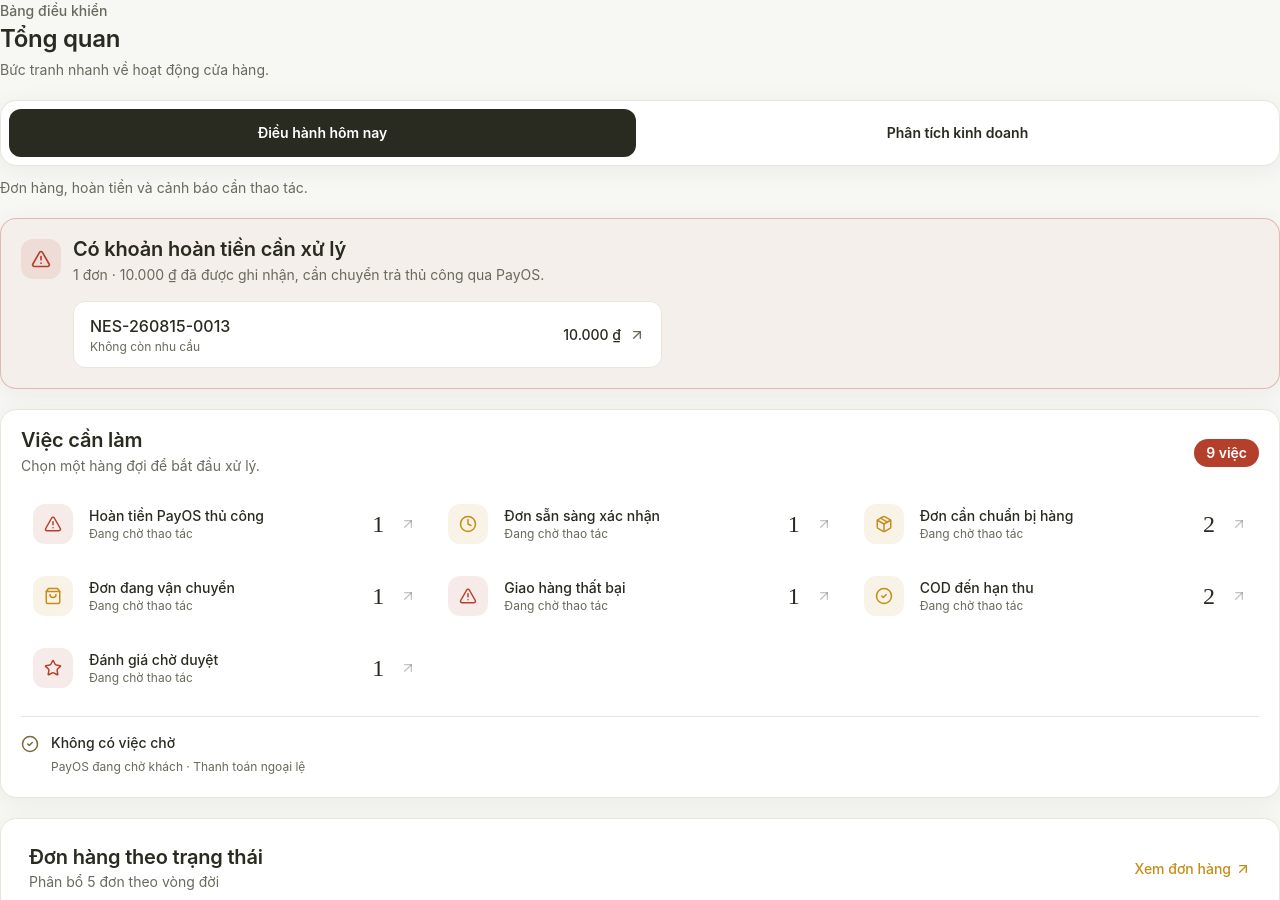
Scenario: AdminDashboardPage › shows the operational period results without a decorative hero
Click the button "Phân tích kinh doanh": (958, 133) [644,109,1271,157]
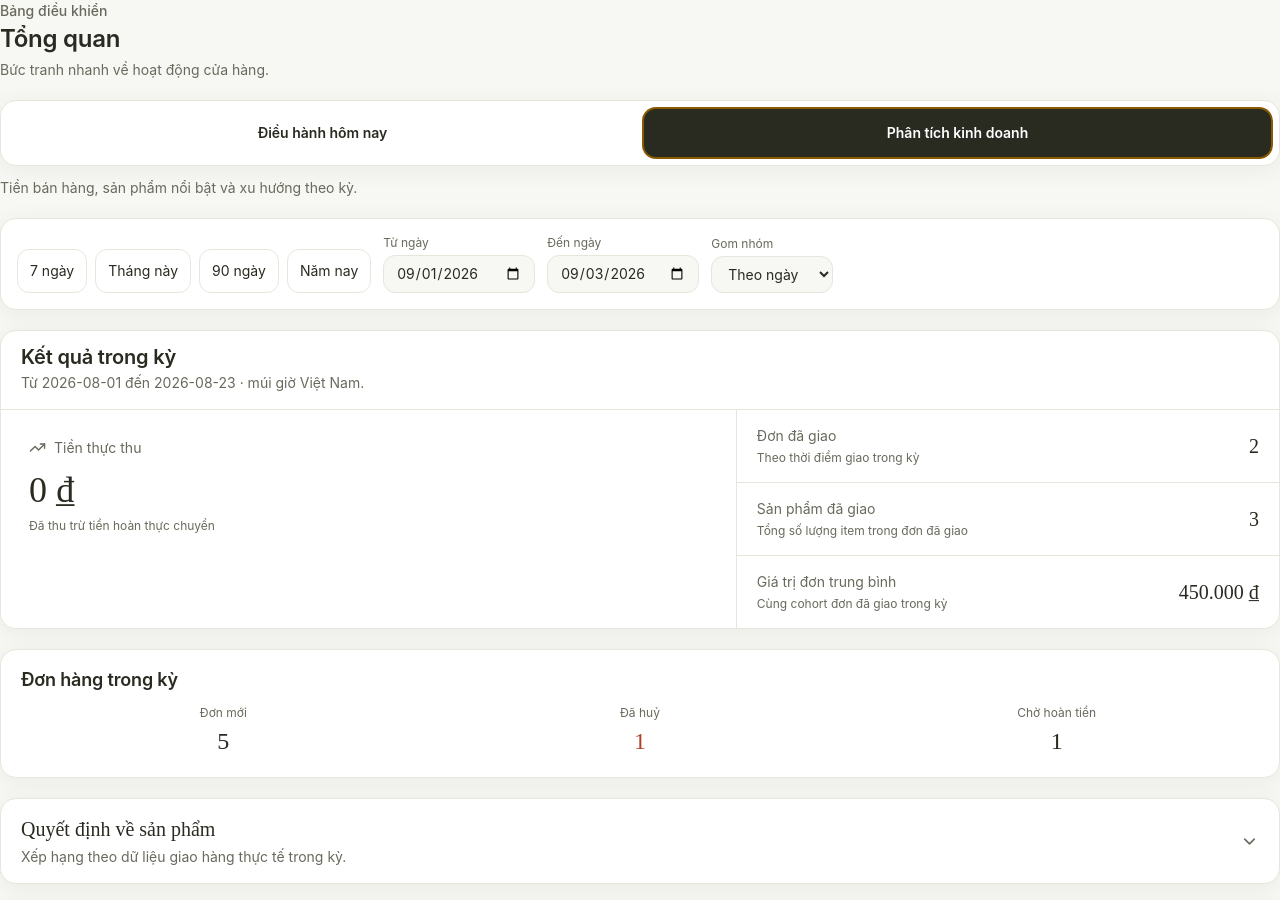
Check: the text "Tiền thực thu" is shown, box [29,439,141,456]
Check: the heading "Kết quả trong kỳ" is shown, box [21,345,176,369]
Check: the text "Sản phẩm đã giao" is shown, box [757,500,875,517]
